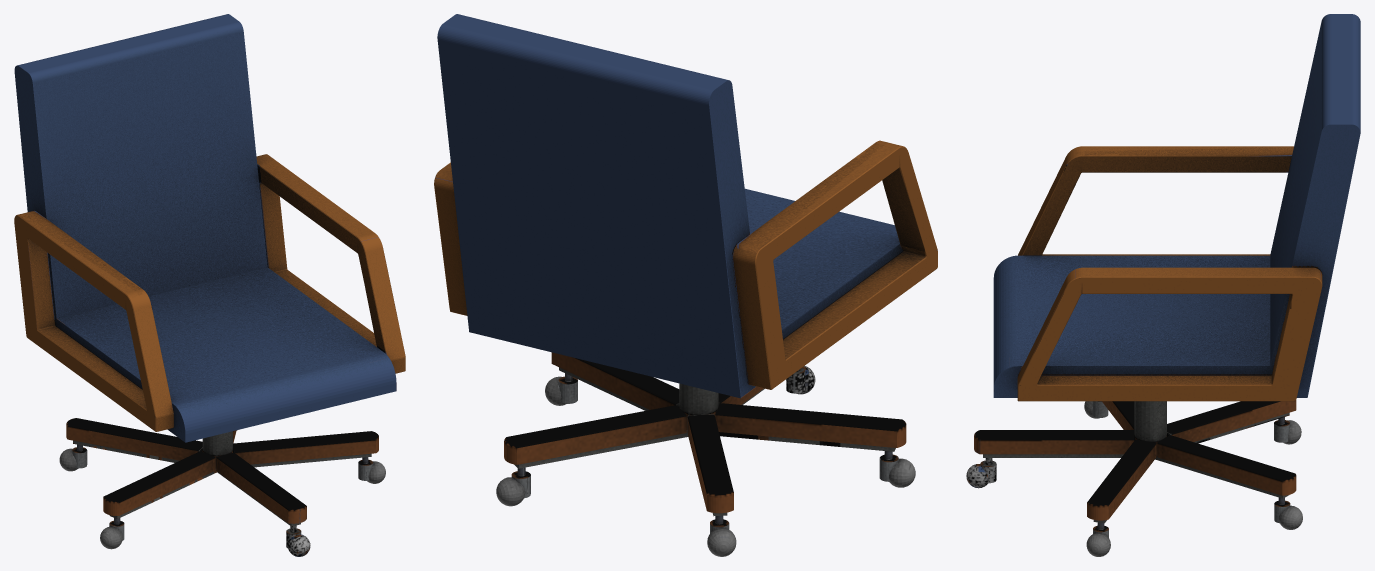
File: bluedeskchair.dae
3 renders of one model, left to right at view 1: azimuth 30°, elevation 25°; view 2: azimuth 150°, elevation 25°; view 3: azimuth 270°, elevation 25°, orthographic. The views are drawn at different scales.
Parts seen in each view (by area): view 1: chair-combined-seat, chair-combined-base; view 2: chair-combined-seat, chair-combined-base; view 3: chair-combined-seat, chair-combined-base.
Part boxes in pixels (box(x1,y1,x2,y2)): chair-combined-seat: box(14, 14, 405, 442); chair-combined-base: box(59, 418, 385, 556); chair-combined-seat: box(434, 14, 937, 398); chair-combined-base: box(496, 352, 915, 556); chair-combined-seat: box(993, 14, 1360, 401); chair-combined-base: box(966, 400, 1302, 556).
Bounding box in the file's own units: 0.9585 × 1.07 × 1.25.
2 materials, 1 textured.
